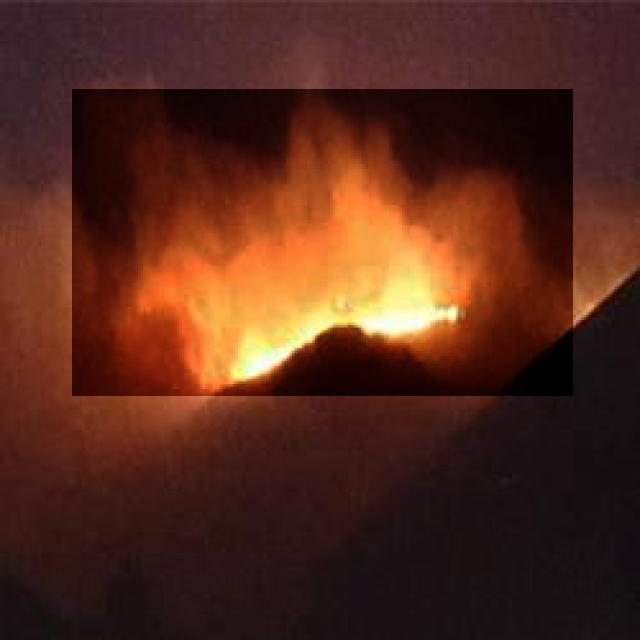Smoke: (72, 89, 573, 396)
